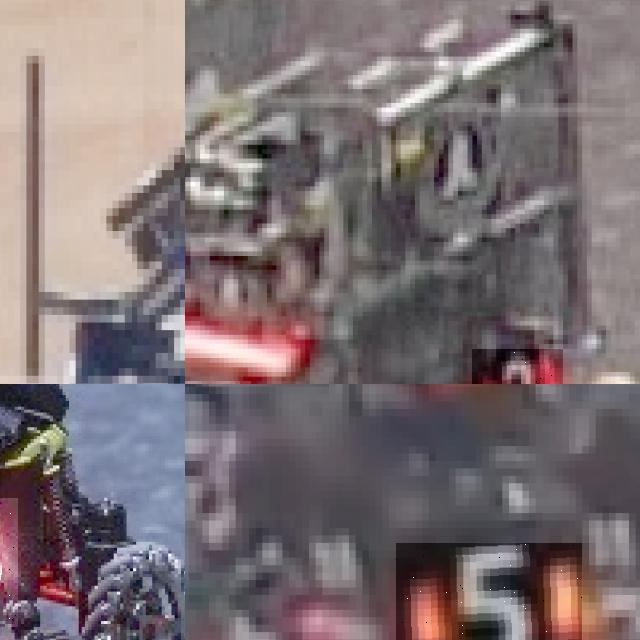R2: (472, 349, 562, 384)
R5: (395, 543, 582, 640)
